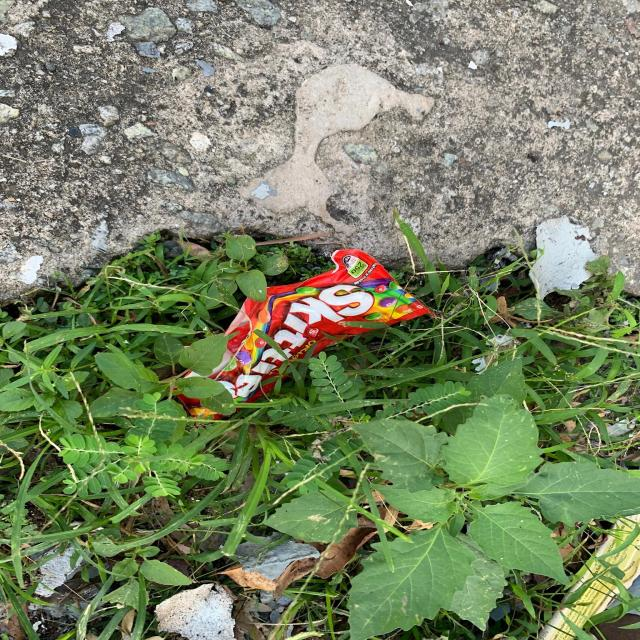litter: (168, 249, 438, 428)
